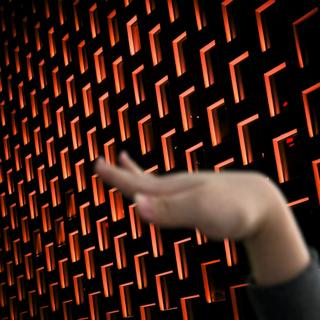Wait: (85, 142, 292, 253)
